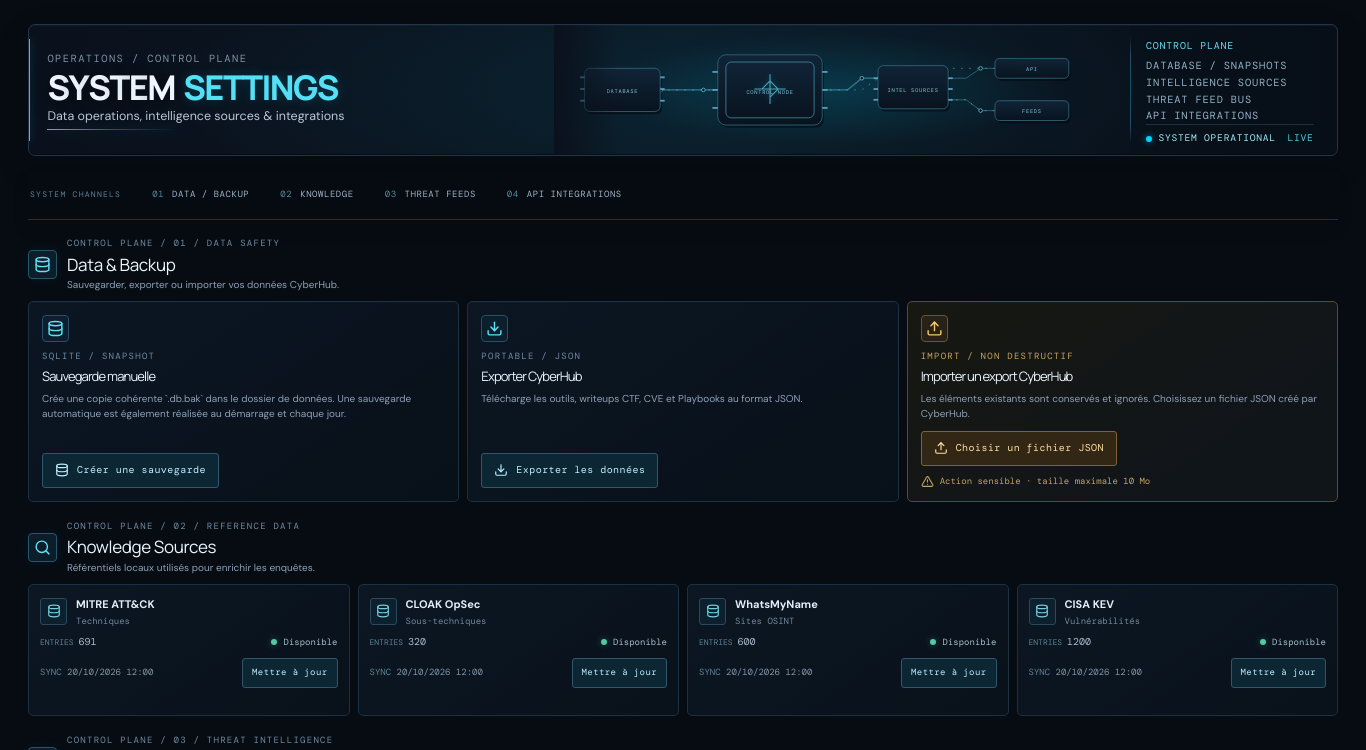
Settings 2026 › reports export failures without exposing response details
Step 1. Click the button "Exporter les données" → (570, 470), box [481, 452, 658, 488]
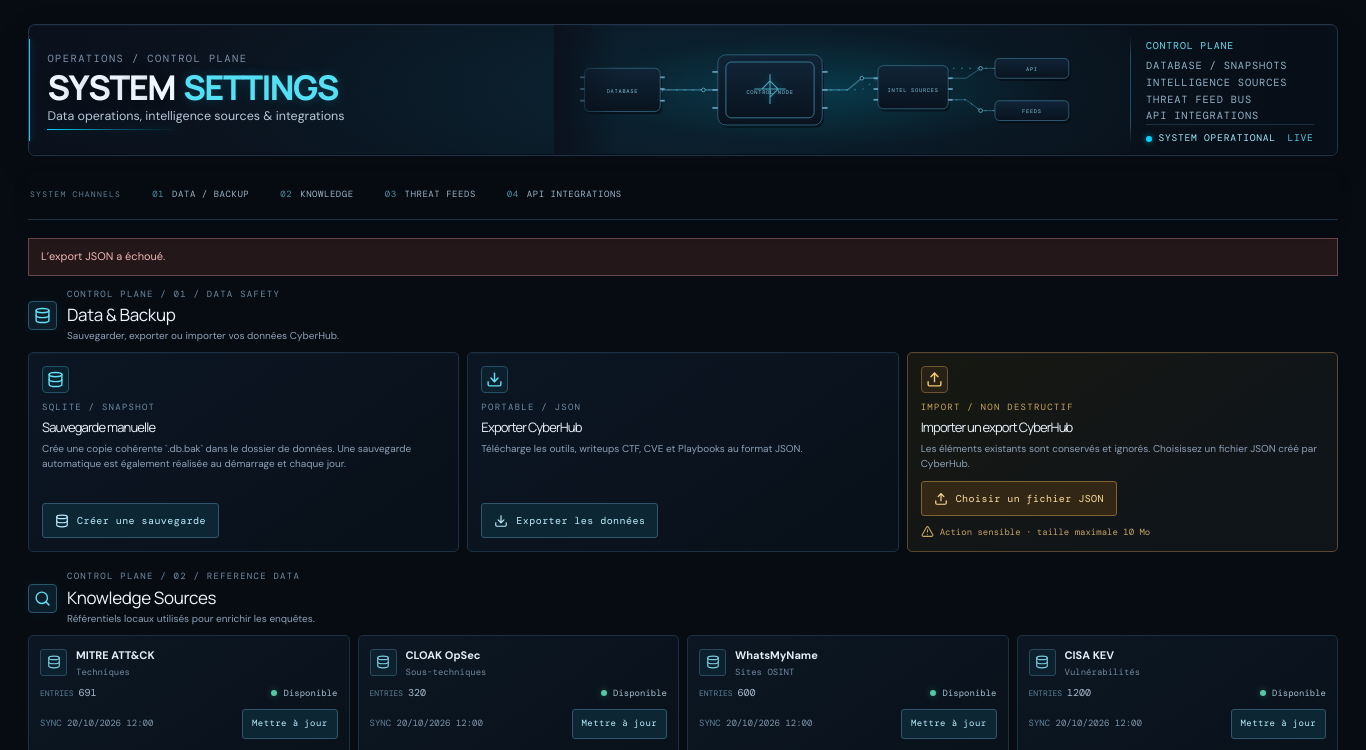
Check: the message shows "export JSON a échoué", box [41, 249, 165, 263]
